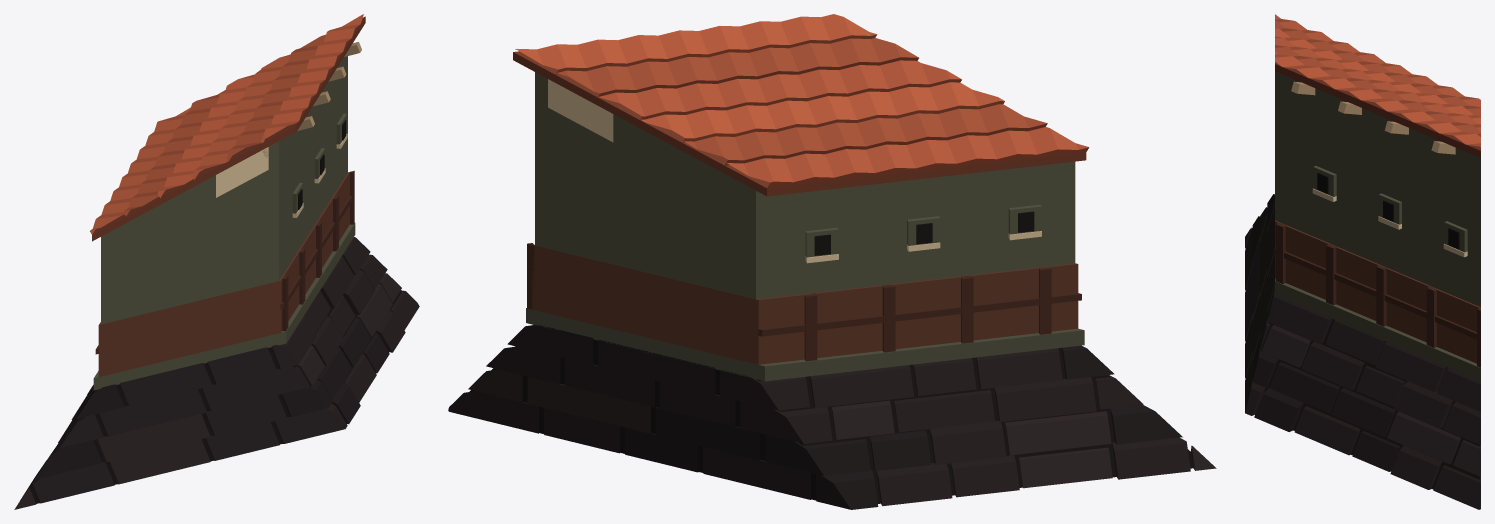
The model's file is VerWall09.glb.
3 renders of one model, left to right at view 1: azimuth 30°, elevation 25°; view 2: azimuth 150°, elevation 25°; view 3: azimuth 270°, elevation 25°, orthographic. The views are drawn at different scales.
Visible parts, largest first — view 1: VerWall09_mortar; view 2: VerWall09_mortar; view 3: VerWall09_mortar.
Part boxes in pixels (x1,y1,x2,y2): VerWall09_mortar: [14, 14, 419, 509]; VerWall09_mortar: [448, 14, 1216, 509]; VerWall09_mortar: [1245, 14, 1480, 509].
Size of the model in its own units: 9.78 by 5.57 by 3.57.
